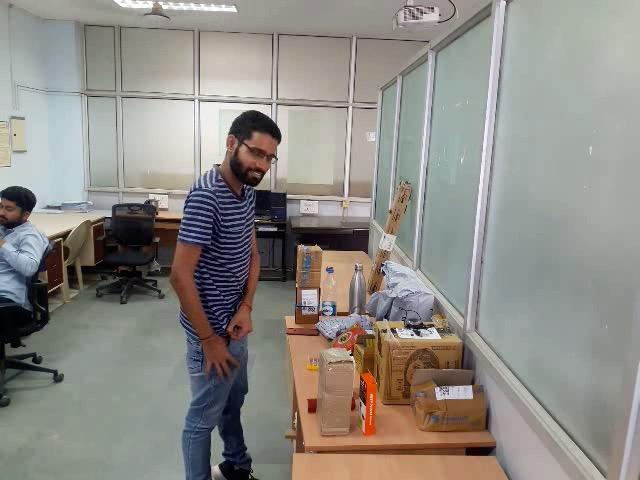shoplifting: (174, 328, 249, 396)
